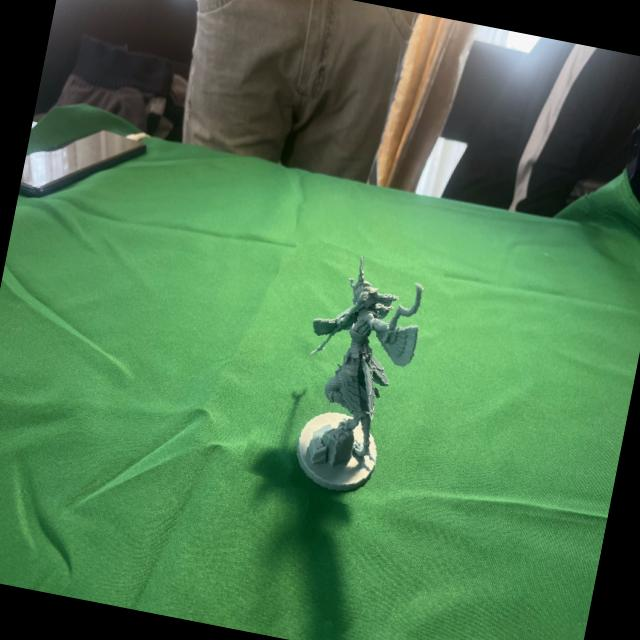isis: (243, 238, 452, 516)
